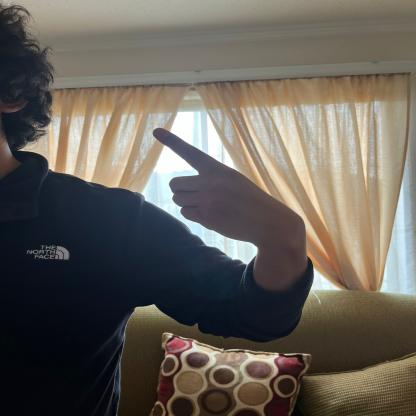Q: (144, 123, 303, 259)
